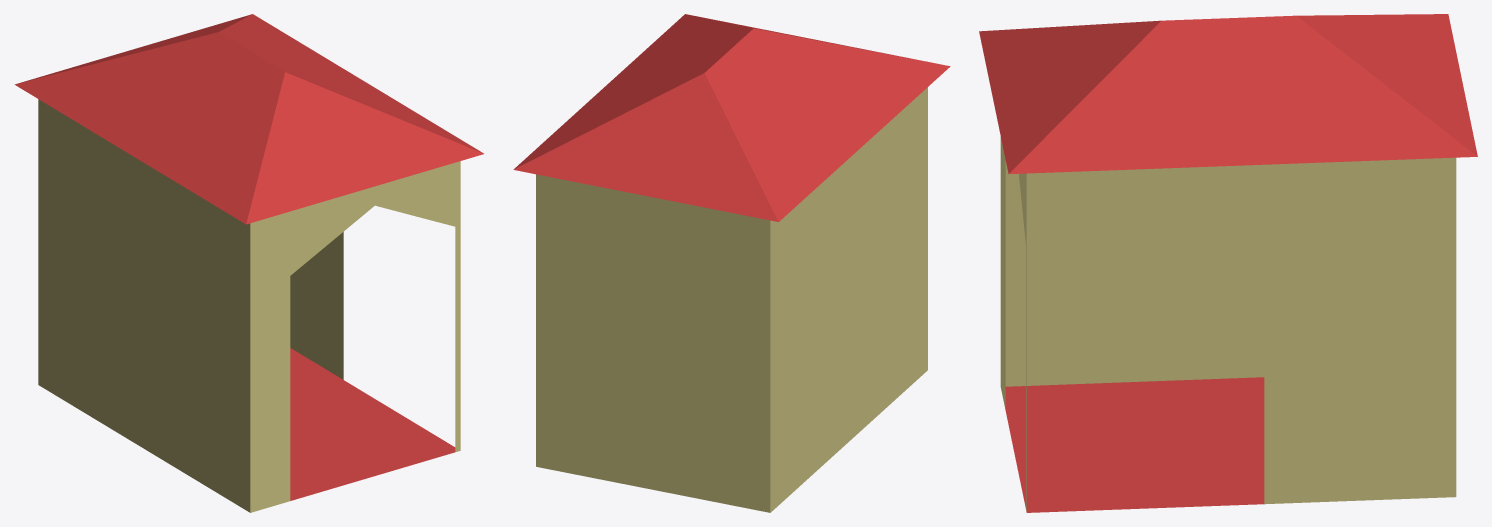
3 views of the same model, side by side, from view 1: azimuth 30°, elevation 25°; view 2: azimuth 150°, elevation 25°; view 3: azimuth 270°, elevation 25° (orthographic). The views are drawn at different scales.
Bounding box in the file's own units: 14.23 × 18.73 × 17.62.
